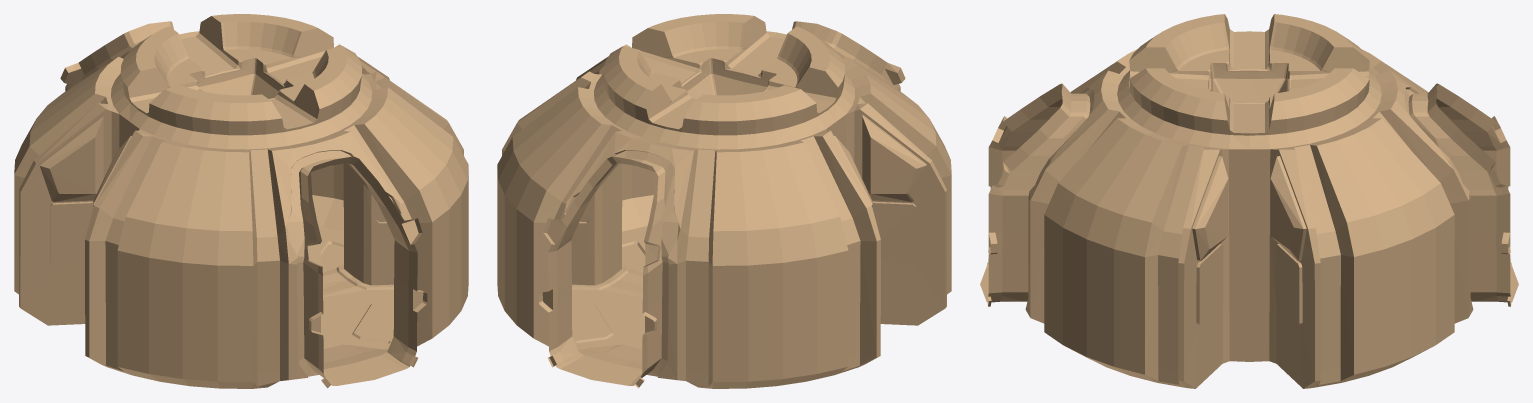
File: REENTRY_CRAFT_BODY_Interior.fbx
3 renders of one model, left to right at view 1: azimuth 30°, elevation 25°; view 2: azimuth 150°, elevation 25°; view 3: azimuth 270°, elevation 25°, orthographic.
Visible parts, largest first — view 1: POD_INTERIOR_GEO; view 2: POD_INTERIOR_GEO; view 3: POD_INTERIOR_GEO.
Boxes of the visible parts, x1,y1,x2,y2 form: POD_INTERIOR_GEO: (14,14,468,388); POD_INTERIOR_GEO: (497,14,951,388); POD_INTERIOR_GEO: (980,14,1518,388).
Size of the model in its own units: 4.74 by 2.97 by 5.8.
